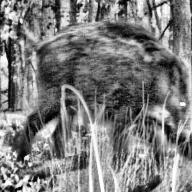boar: (20, 22, 192, 171)
